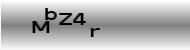4: (73, 11, 87, 25)
M: (31, 20, 50, 34)
Z: (57, 11, 73, 26)
b: (43, 7, 57, 21)
r: (89, 26, 101, 38)
